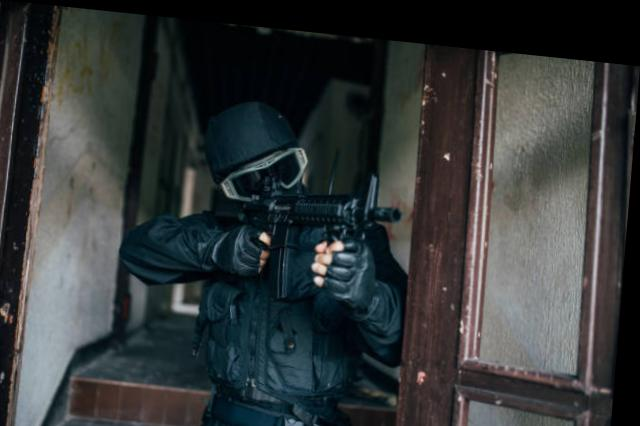other: (160, 91, 416, 424)
